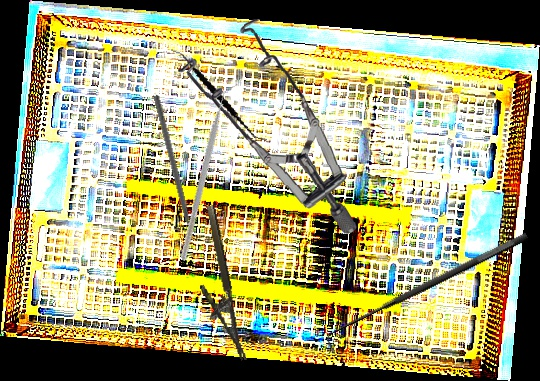Chopper: (135, 83, 285, 262), (145, 93, 197, 249)
Hook Surgical: (318, 230, 537, 356)
Needle Holder: (185, 204, 247, 366)
Spatula Surgical: (154, 49, 284, 141)
Speculum: (174, 14, 358, 243)
